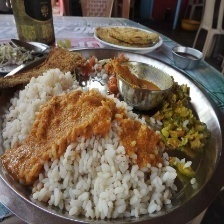sabzi: (150, 81, 213, 154)
